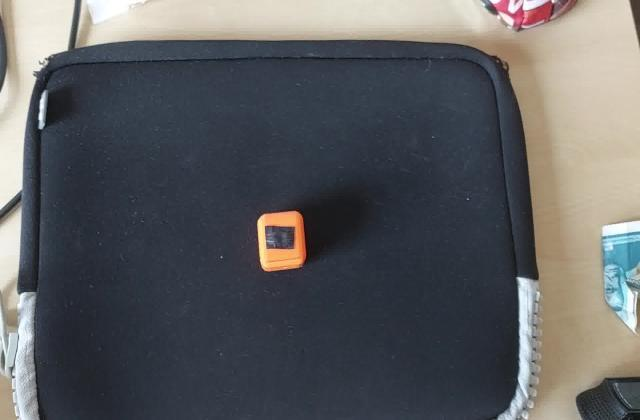black: (262, 222, 298, 252)
sticker: (254, 208, 310, 274)
